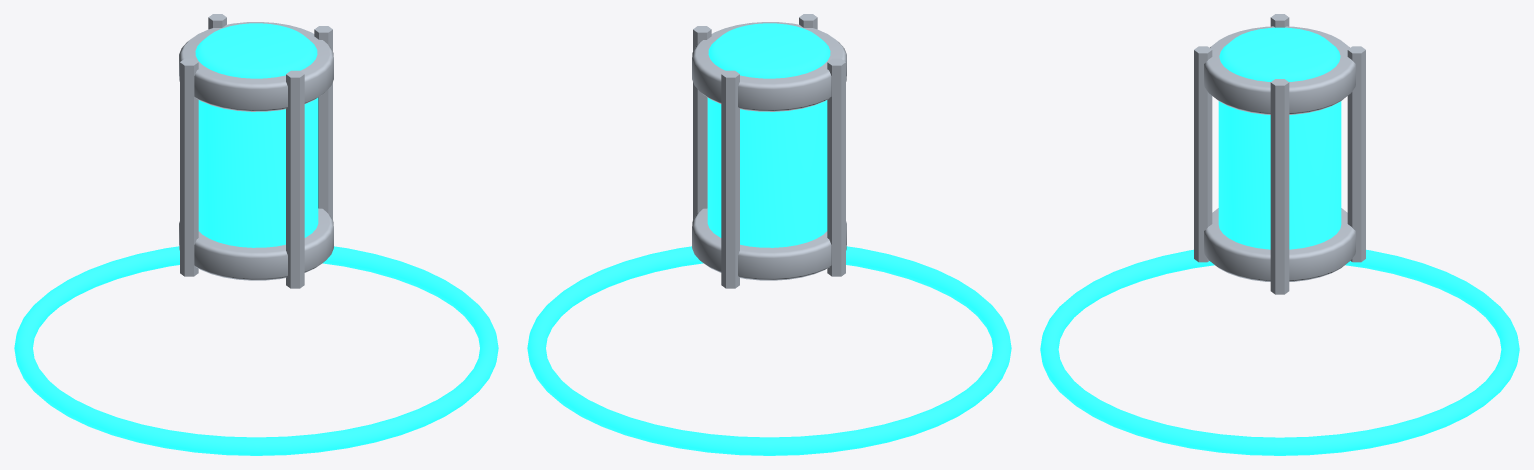
Rendered from pickup_flux.glb.
3 views of the same model, side by side, from view 1: azimuth 30°, elevation 25°; view 2: azimuth 150°, elevation 25°; view 3: azimuth 270°, elevation 25° (orthographic).
Parts seen in each view (by area): view 1: flux_cell, flux_ring, flux_cap0.12, flux_cap-0.12, flux_bar1, flux_bar2, flux_bar0; view 2: flux_cell, flux_ring, flux_cap0.12, flux_cap-0.12, flux_bar3, flux_bar2, flux_bar0; view 3: flux_cell, flux_ring, flux_cap0.12, flux_cap-0.12, flux_bar0, flux_bar1, flux_bar3.
Boxes of the visible parts, box(x1,y1,x2,y2) form: flux_cell: box(195, 23, 318, 247); flux_ring: box(14, 246, 498, 455); flux_cap0.12: box(179, 22, 333, 111); flux_cap-0.12: box(179, 208, 333, 280); flux_bar1: box(286, 70, 304, 288); flux_bar2: box(180, 58, 198, 276); flux_bar0: box(314, 26, 332, 219); flux_cell: box(707, 23, 830, 247); flux_ring: box(527, 246, 1011, 455); flux_cap0.12: box(692, 22, 846, 111); flux_cap-0.12: box(692, 208, 846, 280); flux_bar3: box(721, 70, 739, 288); flux_bar2: box(827, 58, 845, 276); flux_bar0: box(693, 26, 711, 219); flux_cell: box(1218, 27, 1341, 249); flux_ring: box(1040, 249, 1519, 455); flux_cap0.12: box(1204, 26, 1355, 114); flux_cap-0.12: box(1204, 208, 1355, 281); flux_bar0: box(1270, 79, 1289, 294); flux_bar1: box(1194, 46, 1212, 262); flux_bar3: box(1347, 46, 1365, 262).
Size of the model in its own units: 0.624 by 0.442 by 0.624.
